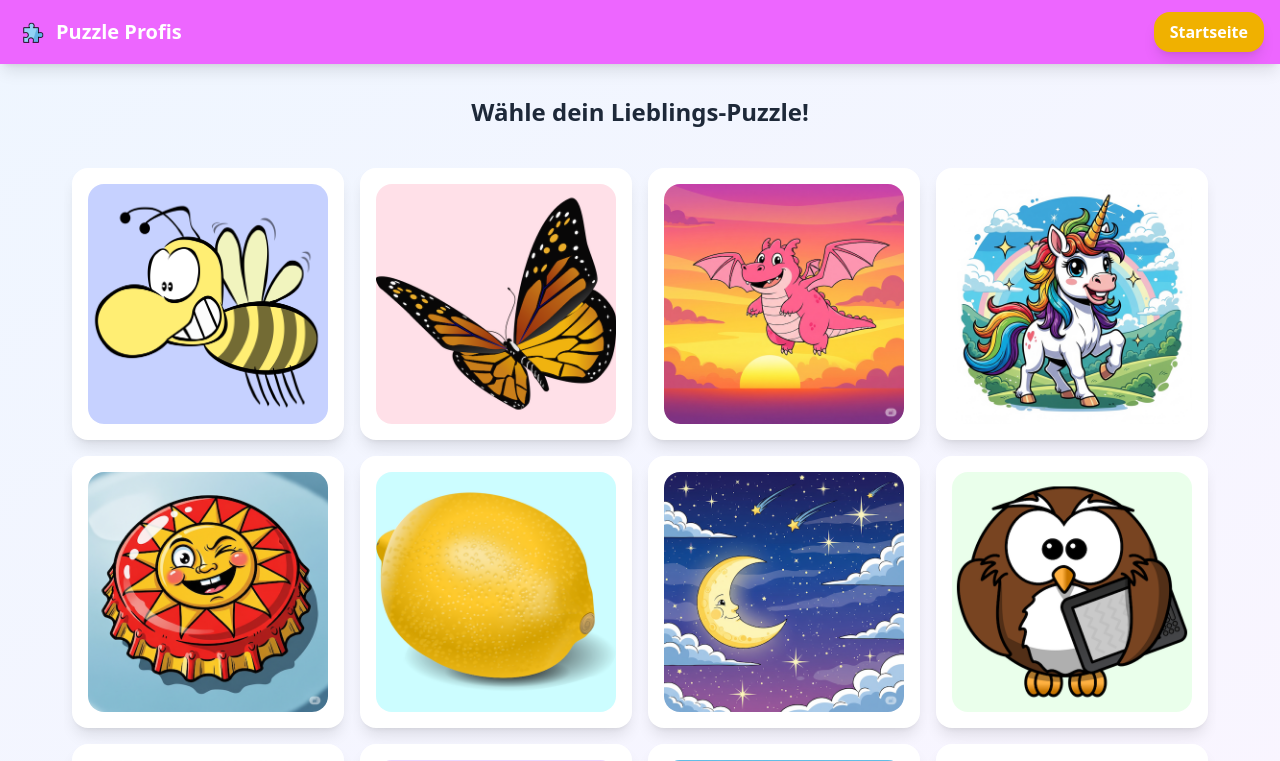
Test: App › navigates to game screen when an image is selected
Click the element with test id "image-option-1".
click(208, 304)  # box [72, 168, 344, 440]
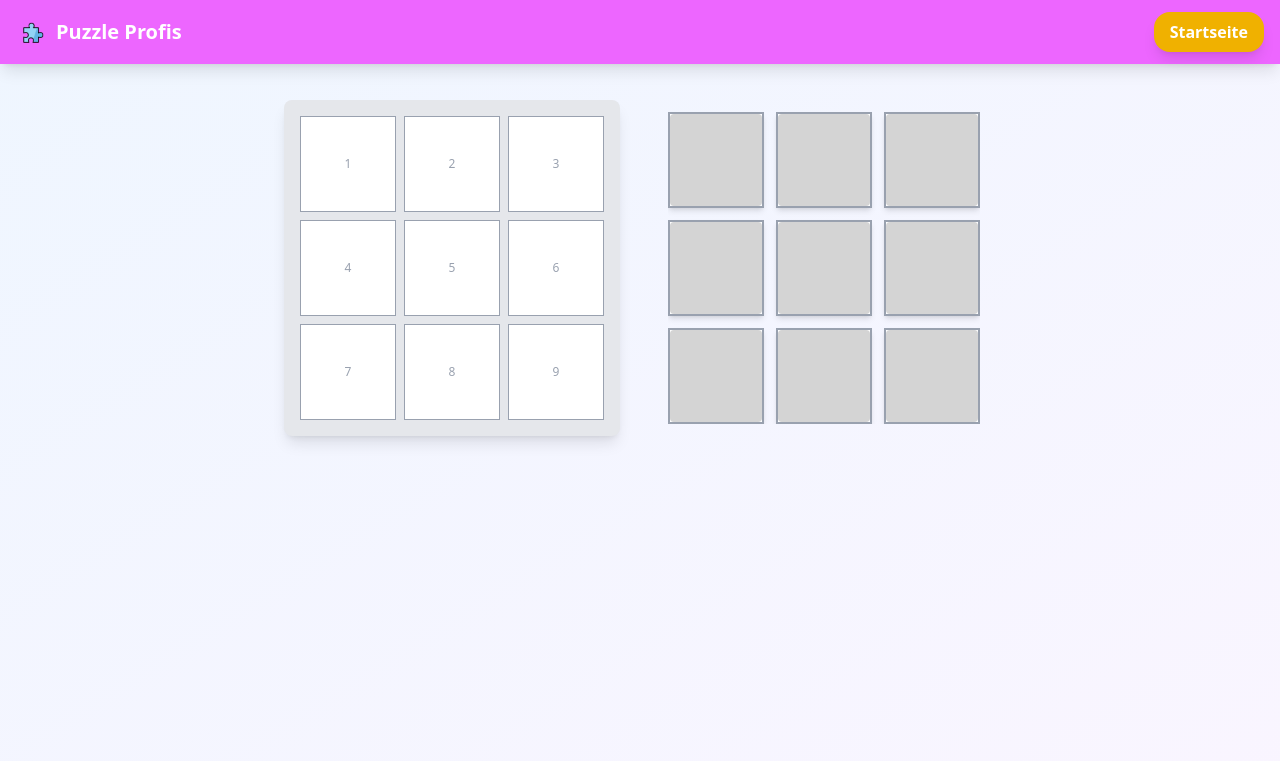
Expected: the element with test id "grid-cell-0" is shown, [300, 116, 396, 212]
